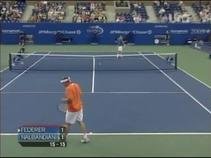stay: (59, 75, 84, 129)
